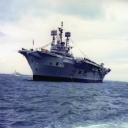Portanaves: (19, 21, 113, 83)
